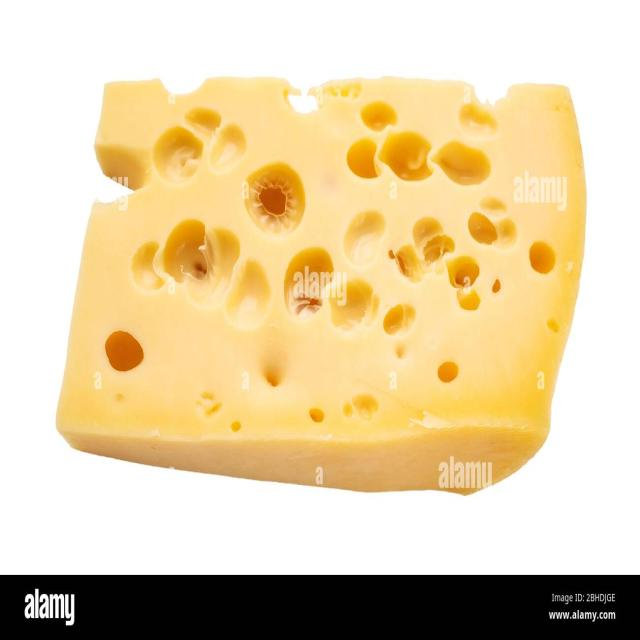Cheese: (53, 85, 585, 531)
